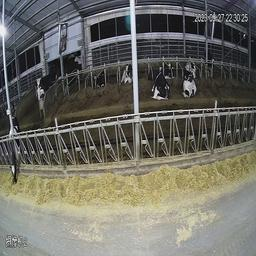cow: (4, 112, 25, 189), (32, 64, 62, 109), (179, 65, 201, 107), (147, 69, 171, 107), (203, 40, 218, 81), (89, 65, 109, 95), (120, 55, 133, 87), (163, 57, 176, 80)
